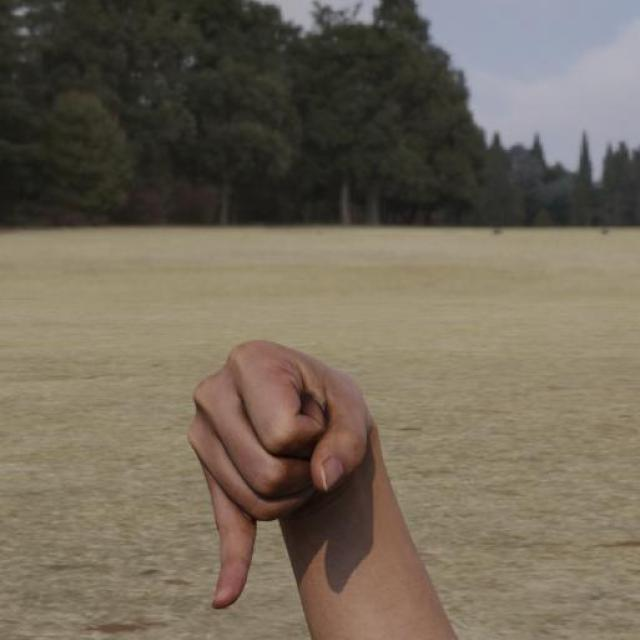J: (168, 299, 410, 640)
